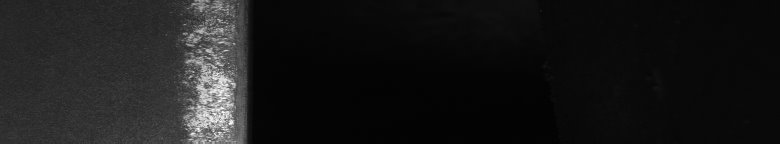kb: (174, 4, 236, 136)
